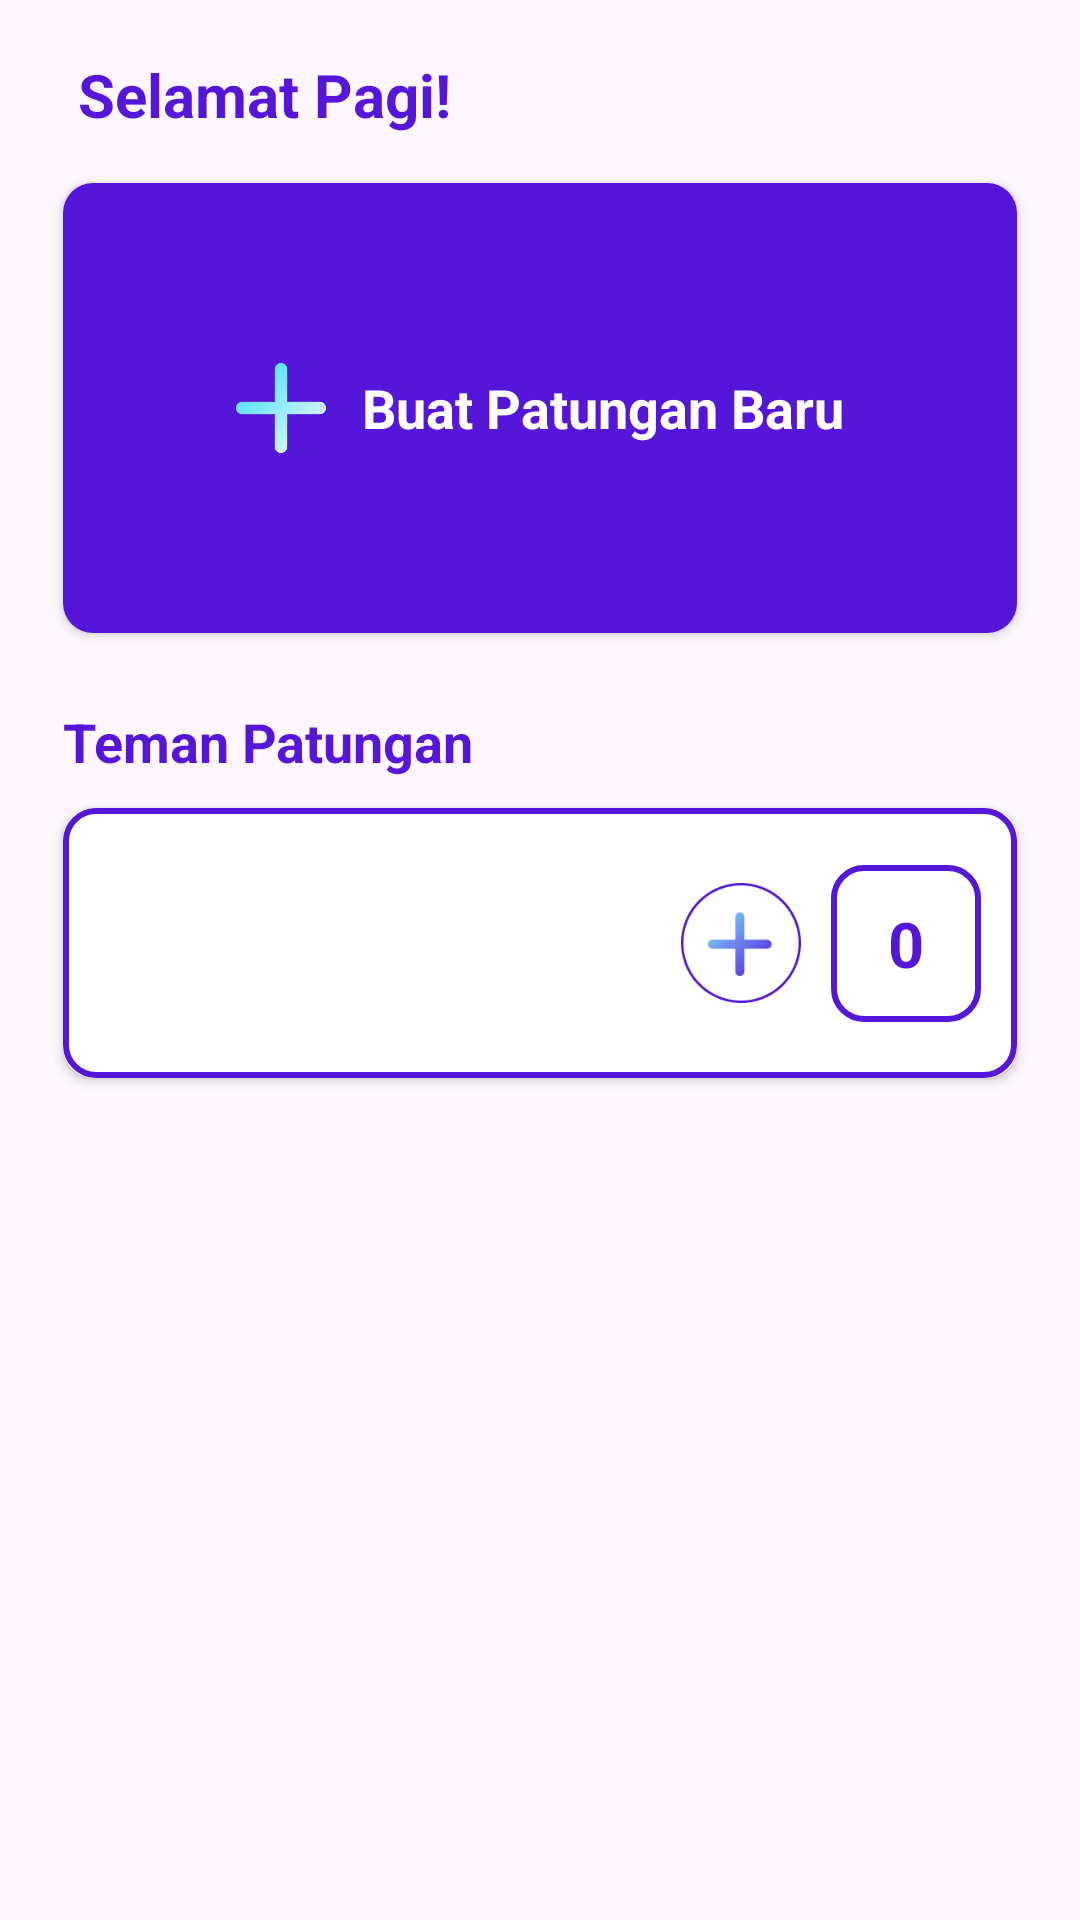

Icons on this 1080x1920 Android screen, each with the point to tap as point (x, y):
circle plus partner: point (741, 943)
plus: point (281, 408)
